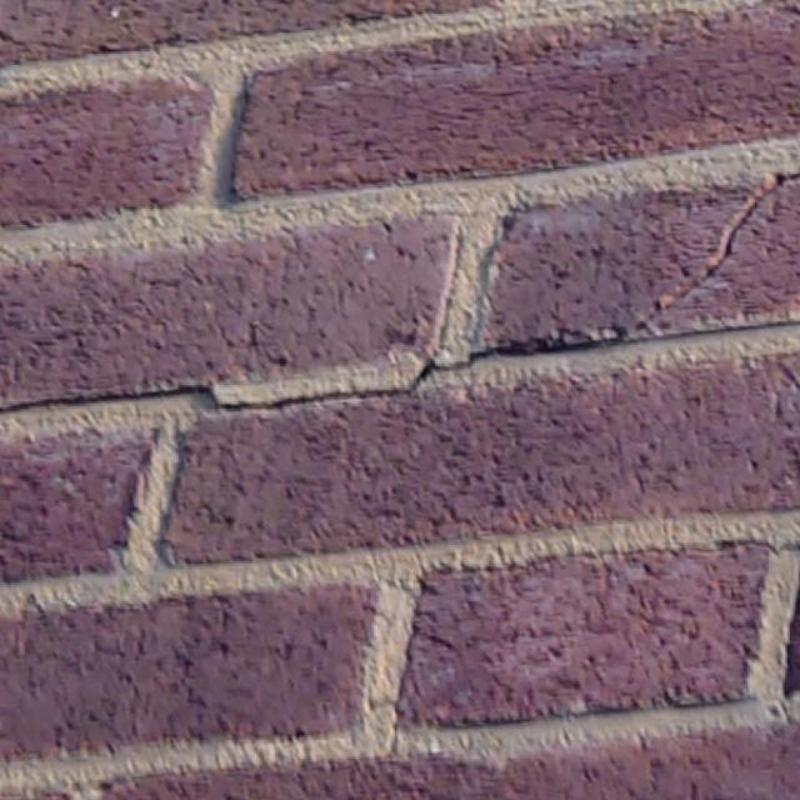pothole: (1, 177, 788, 414)
